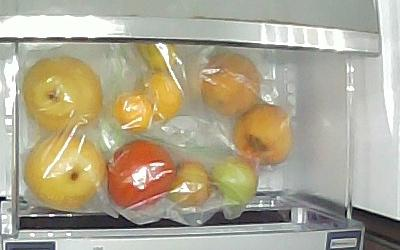peach_vinyl: (232, 104, 294, 168), (203, 53, 263, 115)
pear_vinyl: (24, 133, 107, 210), (24, 56, 103, 135)
tangerine_vinyl: (142, 72, 183, 122), (114, 92, 155, 131), (134, 41, 177, 76)
tomato_vinyl: (110, 139, 177, 213), (207, 155, 260, 205), (170, 159, 214, 209)
